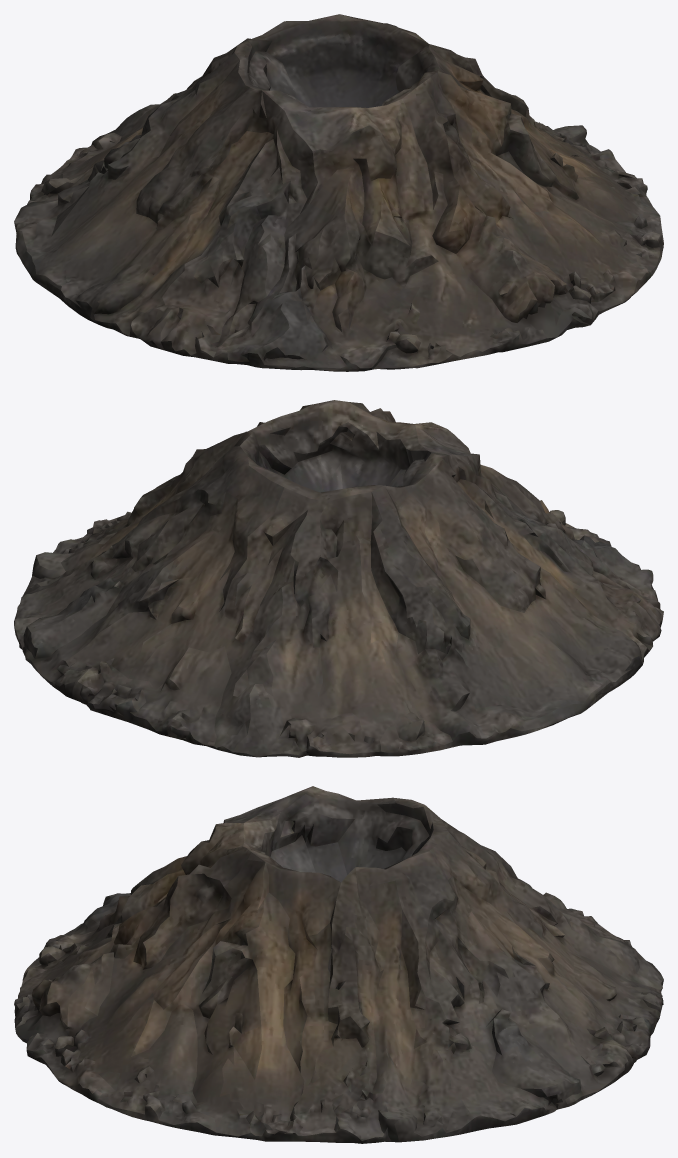
The picture shows the model from 3 angles, top to bottom: view 1: azimuth 30°, elevation 25°; view 2: azimuth 150°, elevation 25°; view 3: azimuth 270°, elevation 25°; orthographic projection.
Visible parts, largest first — view 1: geometry_0; view 2: geometry_0; view 3: geometry_0.
Boxes of the visible parts, x1,y1,x2,y2 form: geometry_0: [14, 14, 663, 371]; geometry_0: [14, 400, 663, 757]; geometry_0: [14, 786, 663, 1143].
Size of the model in its own units: 0.3 by 0.0929 by 0.3024.
Materials: 1 (1 with a texture image).
